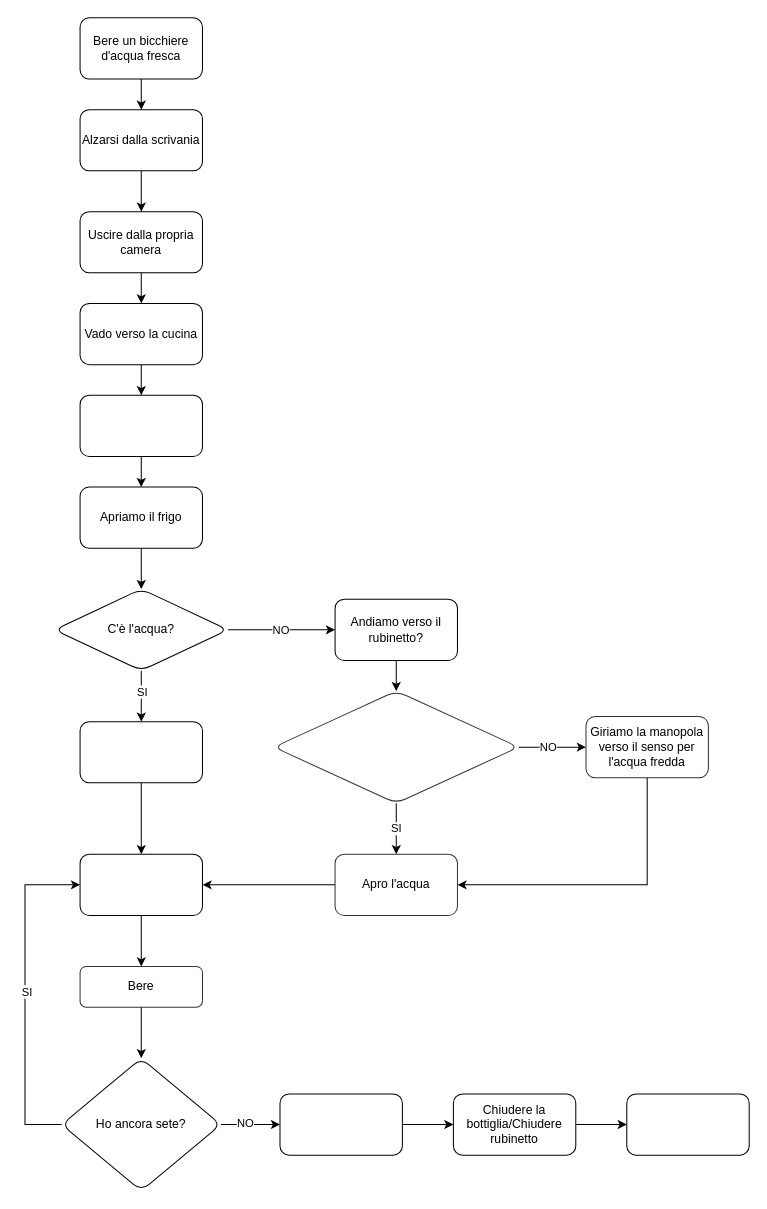
Image size: 767x1209. Some labels were removed from this diagram. Here are the shapes that lost their labels. From the top down, the box of each, then its label:
(79, 394, 202, 456): Prendiamo un bicchiere
(79, 721, 202, 783): Prendo la bottiglia e la apro
(273, 690, 519, 803): La manopola del rubinetto è verso il senso dell'acqua fredda?
(79, 853, 202, 915): Versare l'acqua
(279, 1093, 402, 1155): Poso il bicchiere
(626, 1093, 749, 1155): Tornare in camera
